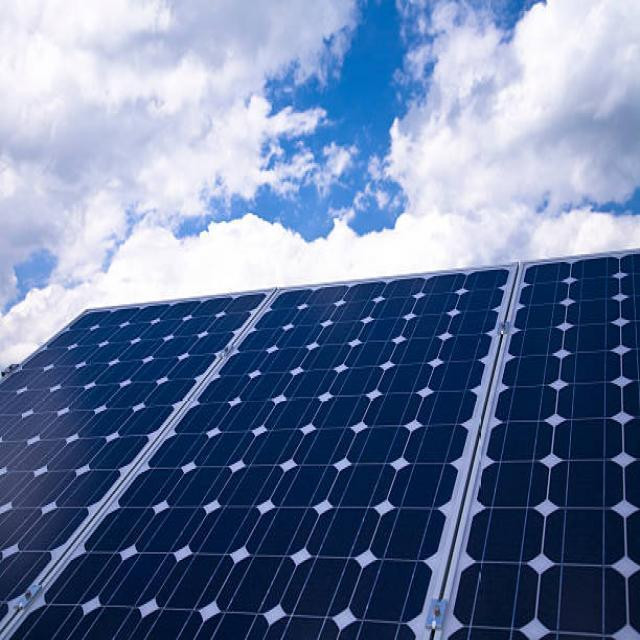Normal Solar Panel: (0, 263, 518, 640), (0, 288, 272, 633), (441, 249, 640, 640)
